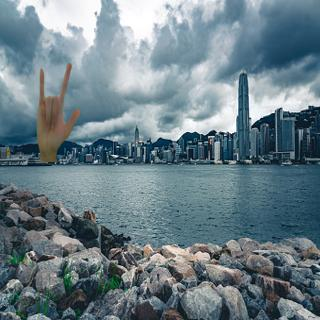ILY: (36, 63, 81, 153)
